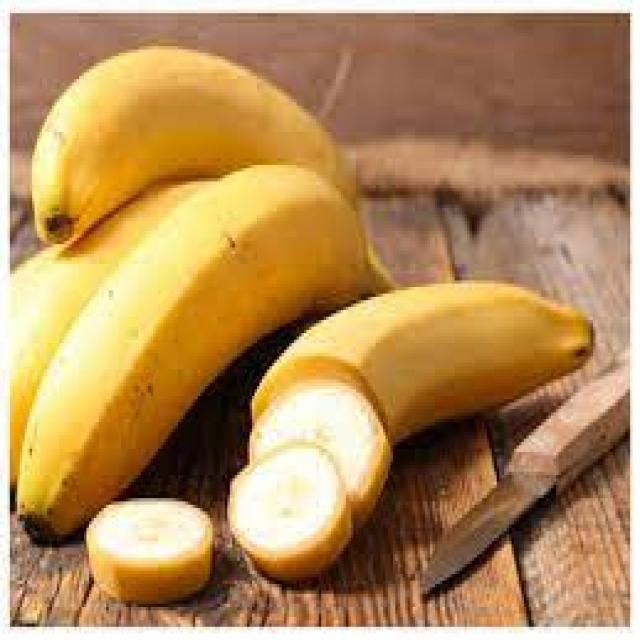banana: (10, 162, 393, 544), (225, 277, 595, 584), (29, 43, 356, 244)
